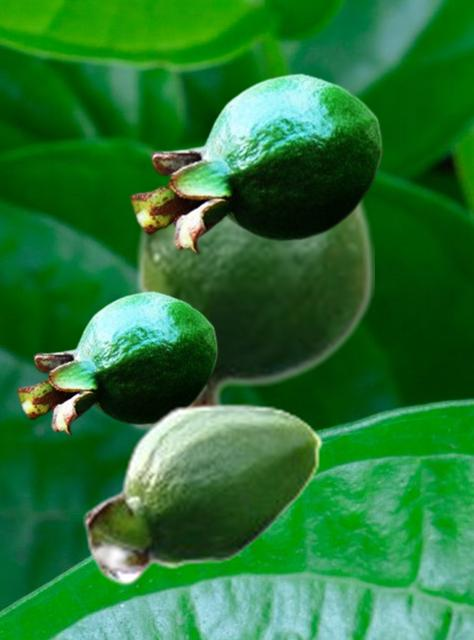guava: (129, 195, 373, 437), (129, 72, 382, 254), (83, 402, 322, 585), (16, 290, 217, 435)
